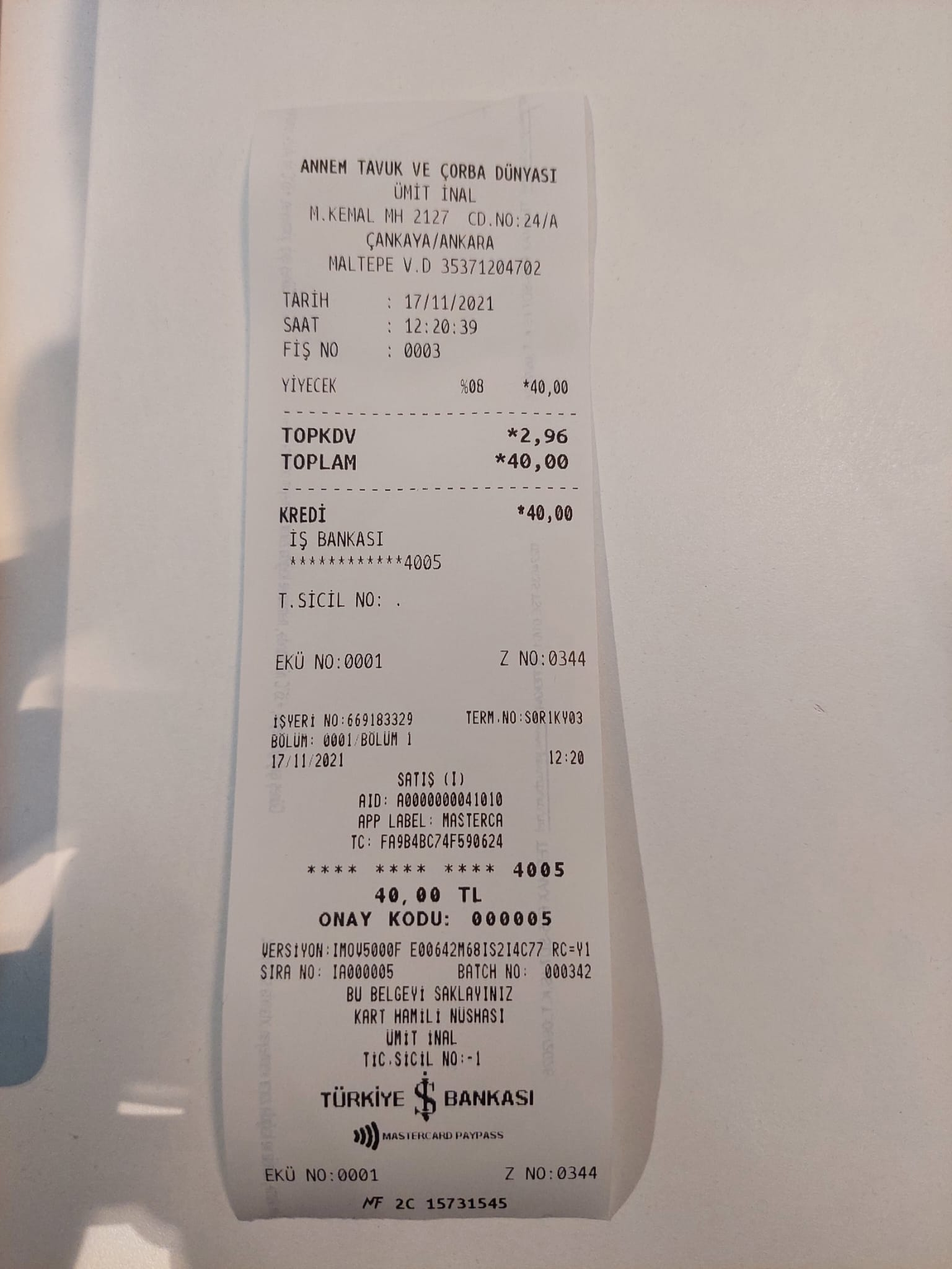date: (504, 448, 576, 480)
price: (401, 287, 500, 316)
workplace: (287, 146, 577, 255)
